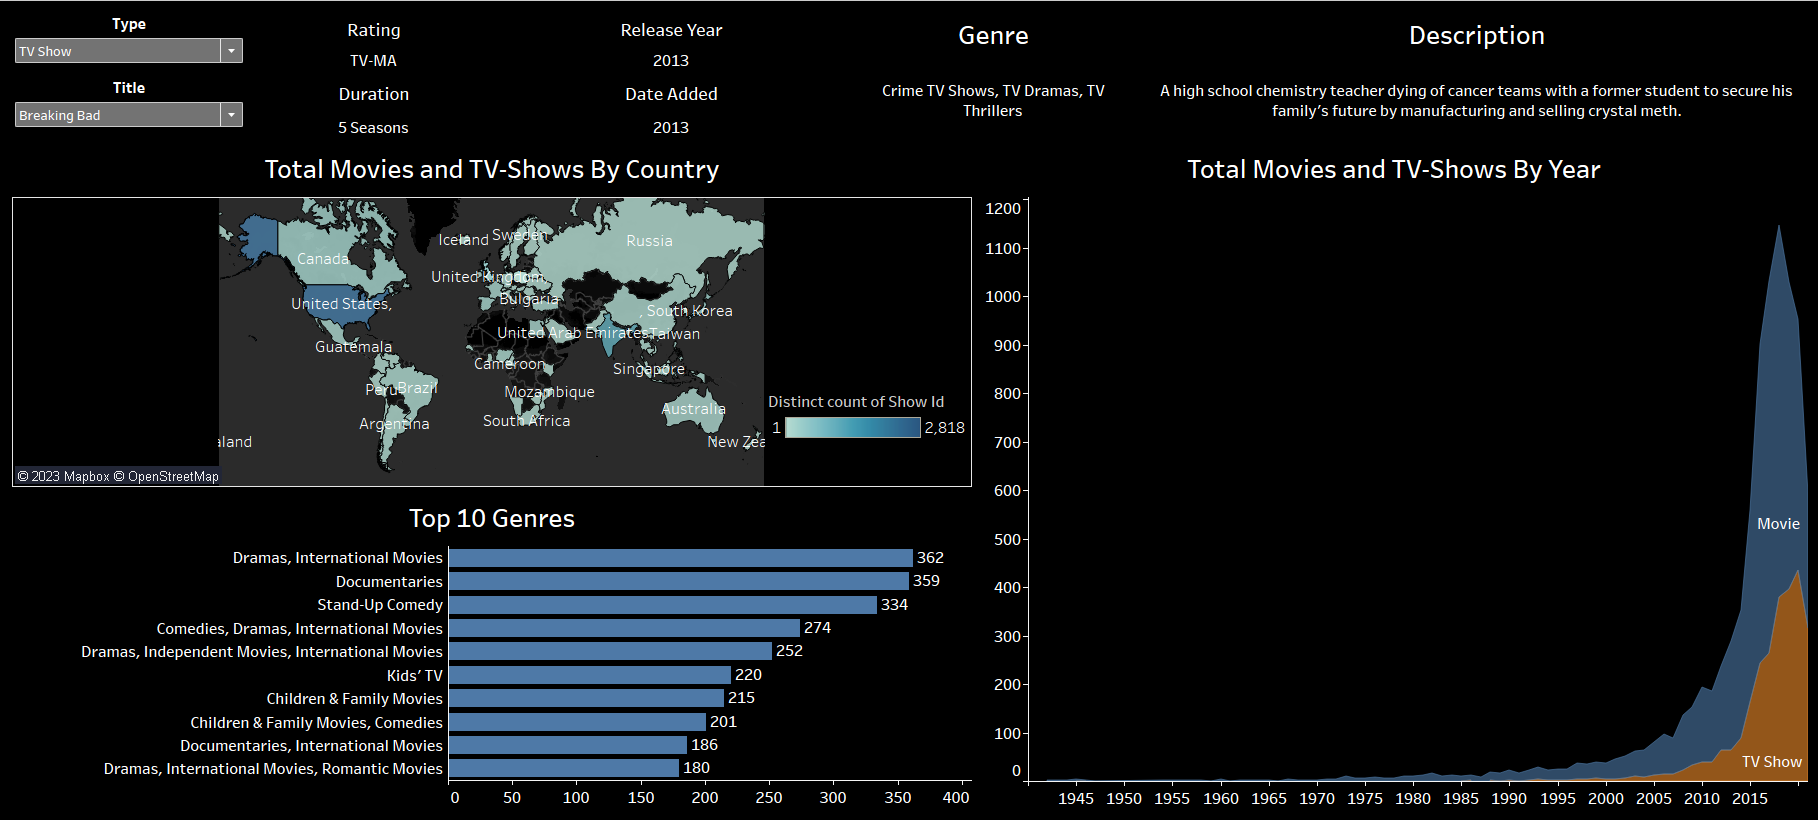

Layout of this report page (visuals, bound fields, positions):
{"tool":"tableau","page":{"name":"Dashboard 1","canvas":[1000,1000],"units":"permille","ordinal":0},"visuals":[{"type":"worksheet","title":"Movs & Shows By Country","mark":"Multipolygon","box":[4.9,10,531.5,508.5]},{"type":"worksheet","title":"Movs & Shows By Year","mark":"Area","rows":["show_id"],"cols":["release_year"],"box":[536.4,10,458.6,980]},{"type":"legend","title":"Movs & Shows By Country","param":"[federated.01ftnfg0meaegc0zwuv2202hxcko].[ctd:show_id:qk]","box":[246.3,425.6,98.8,64]},{"type":"worksheet","title":"Top 10 Genres","mark":"Bar","rows":["listed_in"],"cols":["show_id"],"box":[4.9,518.5,531.5,471.5]}]}

Visuals, with their boxes on the dashboard's canvas, which has no fixed pixel size, in thousandths of its width and height (x1, y1, x2, y2). These are canvas units, not pixel positions in the 1818x820 screenshot, which may show the page scaled, cropped or inside an application window:
"Movs & Shows By Country" worksheet (Multipolygon marks): box=[5, 10, 536, 518]
"Movs & Shows By Year" worksheet (Area marks): box=[536, 10, 995, 990]
"Movs & Shows By Country" legend: box=[246, 426, 345, 490]
"Top 10 Genres" worksheet (Bar marks): box=[5, 518, 536, 990]
